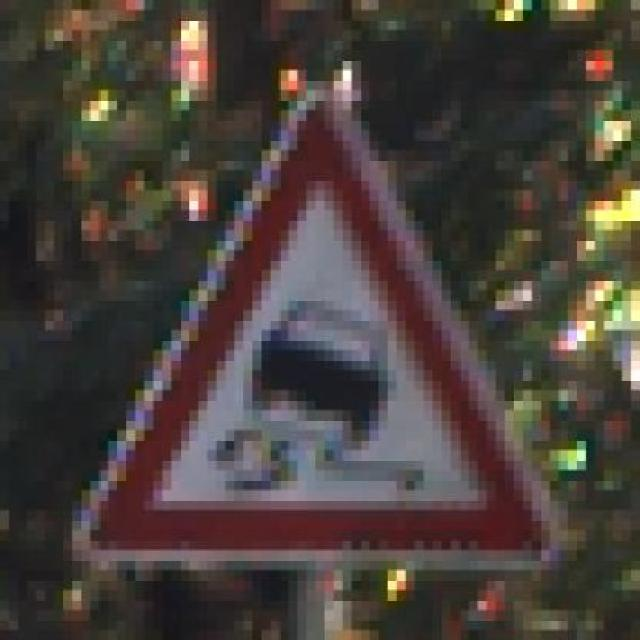Slippery Road Ahead: (63, 70, 568, 570)
